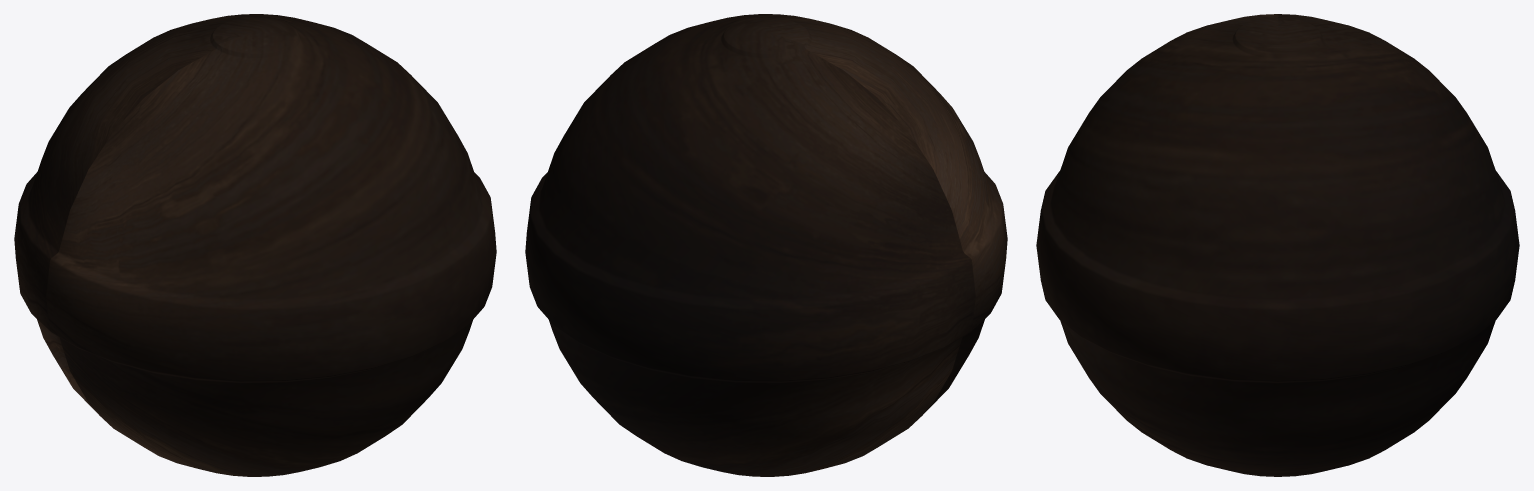
File: firebomb.gltf
3 renders of one model, left to right at view 1: azimuth 30°, elevation 25°; view 2: azimuth 150°, elevation 25°; view 3: azimuth 270°, elevation 25°, orthographic.
Parts seen in each view (by area): view 1: Sphere; view 2: Sphere; view 3: Sphere.
Part boxes in pixels (x1=…): Sphere: x1=14, y1=14, x2=496, y2=476; Sphere: x1=525, y1=14, x2=1007, y2=476; Sphere: x1=1036, y1=14, x2=1519, y2=476.
Bounding box in the file's own units: 0.1622 × 0.1587 × 0.1622.
1 material, 1 textured.
